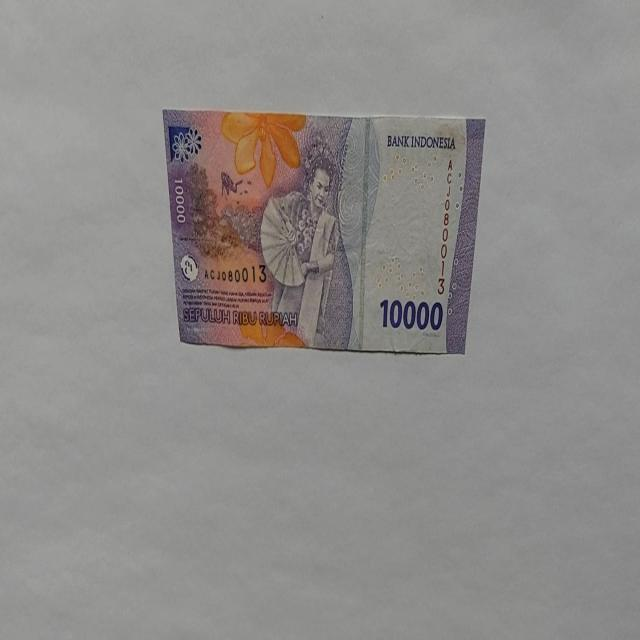sepuluh ribu rupiah: (162, 108, 486, 354)
